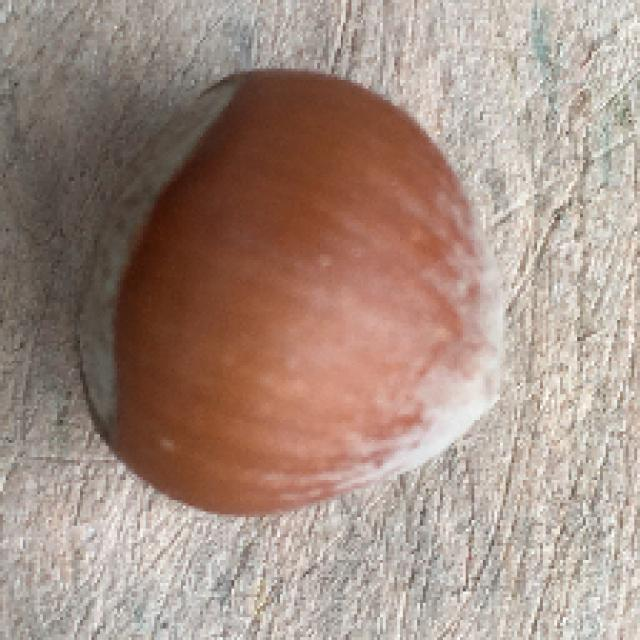qualityHazelnut: (64, 58, 512, 528)
